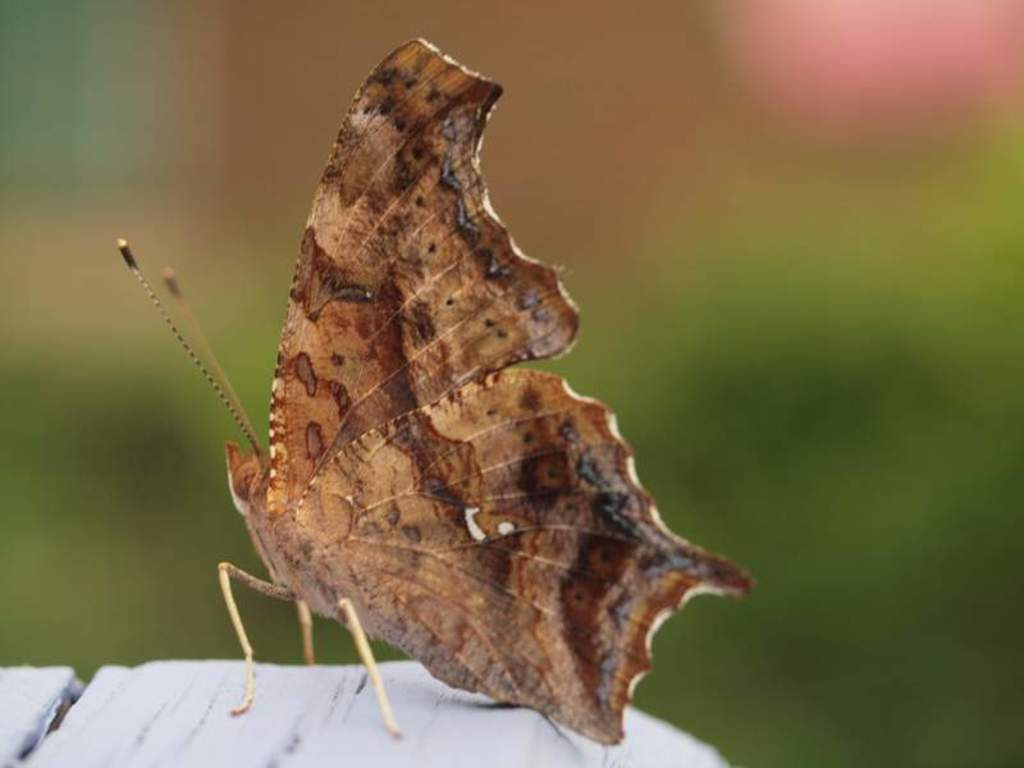Butterfly: (157, 24, 734, 744)
